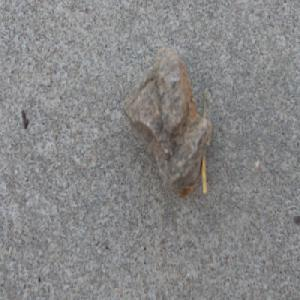Rock: (120, 43, 212, 200)
